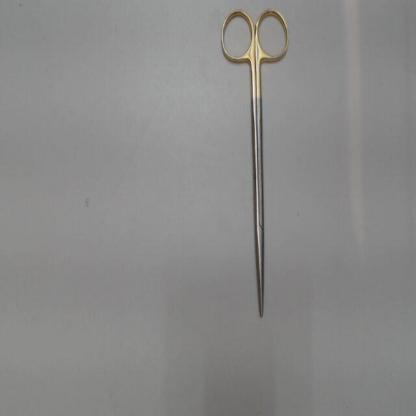7 Metzenbaum Scissors: (218, 5, 293, 318)
